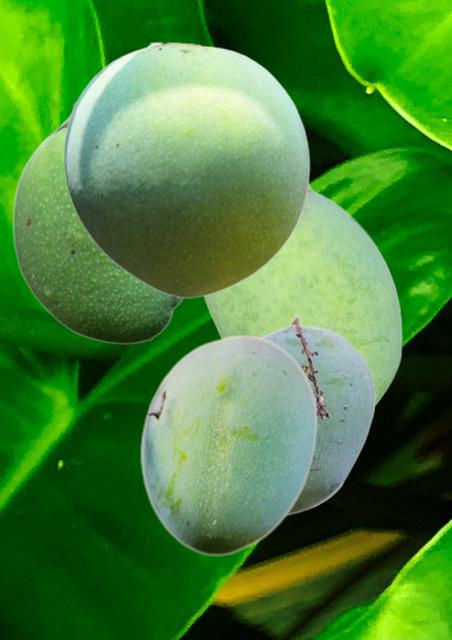green_mango: (63, 40, 309, 297), (201, 182, 401, 408), (12, 101, 184, 344), (139, 334, 317, 555), (260, 315, 375, 515)
